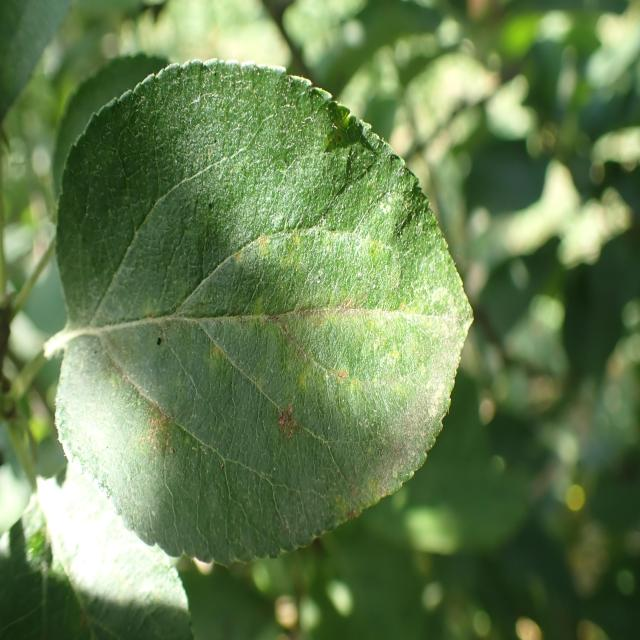scab: (74, 163, 469, 537)
